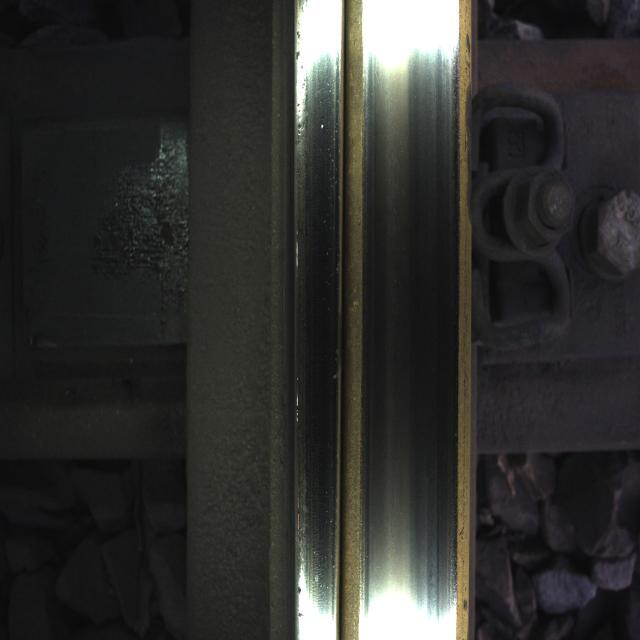break: (365, 39, 457, 594)
